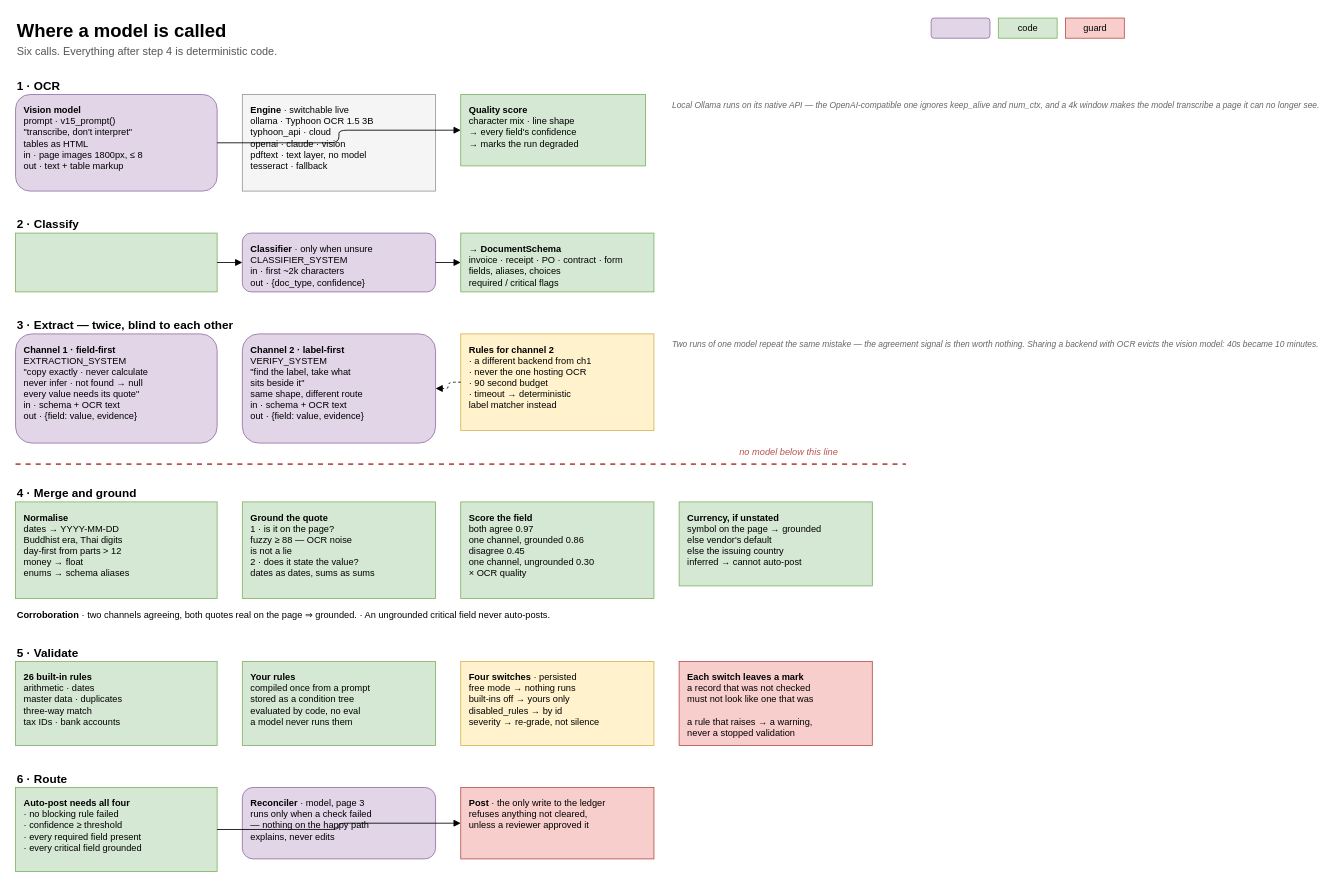
This 1334x886 diagram has some shape labels left out. The box of each missing label's shape, as (x1, y1, x2, y2) in pixels:
Keywords first · code distinctive words per type confident → no model call: (15, 232, 217, 292)
model: (930, 17, 990, 38)
